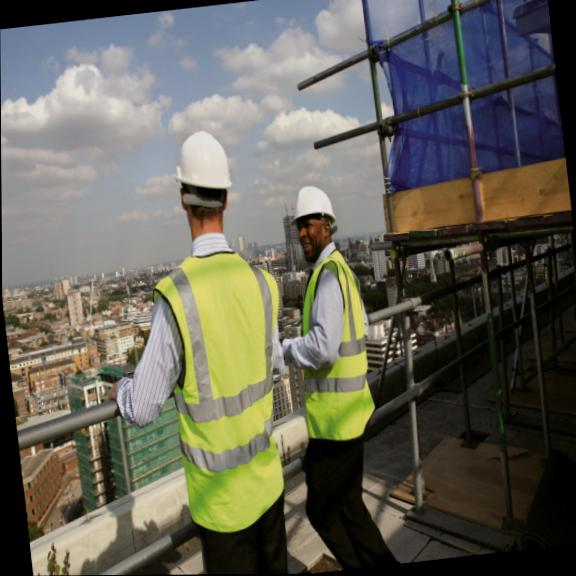safety_vest: (143, 241, 297, 526), (289, 253, 383, 451)
